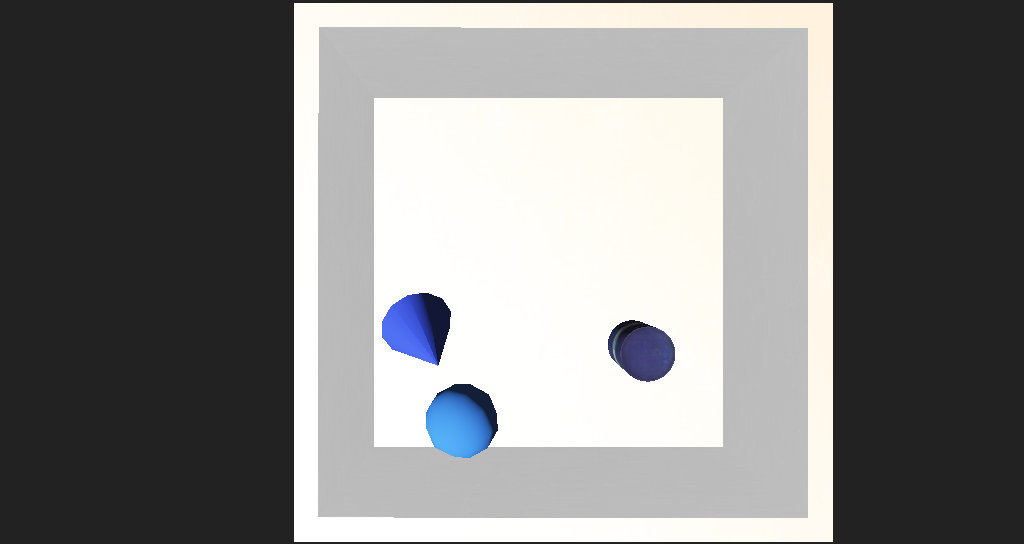cone: (563, 296, 610, 334)
cylinder: (340, 274, 455, 356)
sphere: (401, 334, 461, 382)
